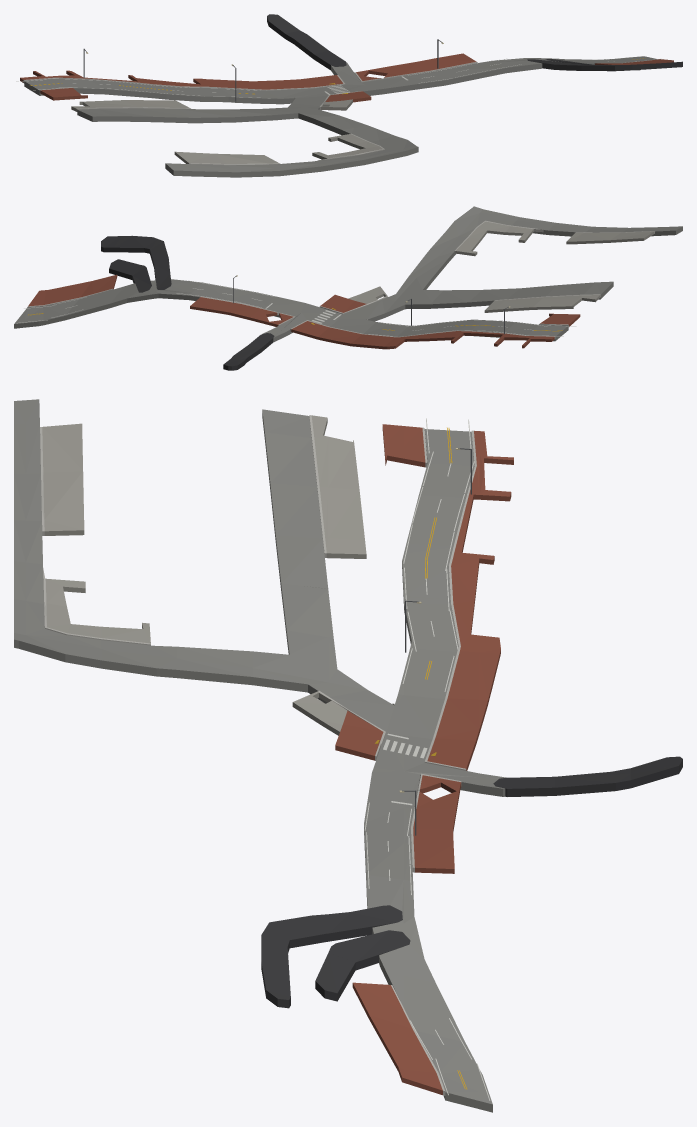
3 views of the same model, one above another, from view 1: azimuth 30°, elevation 25°; view 2: azimuth 150°, elevation 25°; view 3: azimuth 270°, elevation 25° (orthographic). The views are drawn at different scales.
Bounding box in the file's own units: 150 × 35.7 × 88.47.
